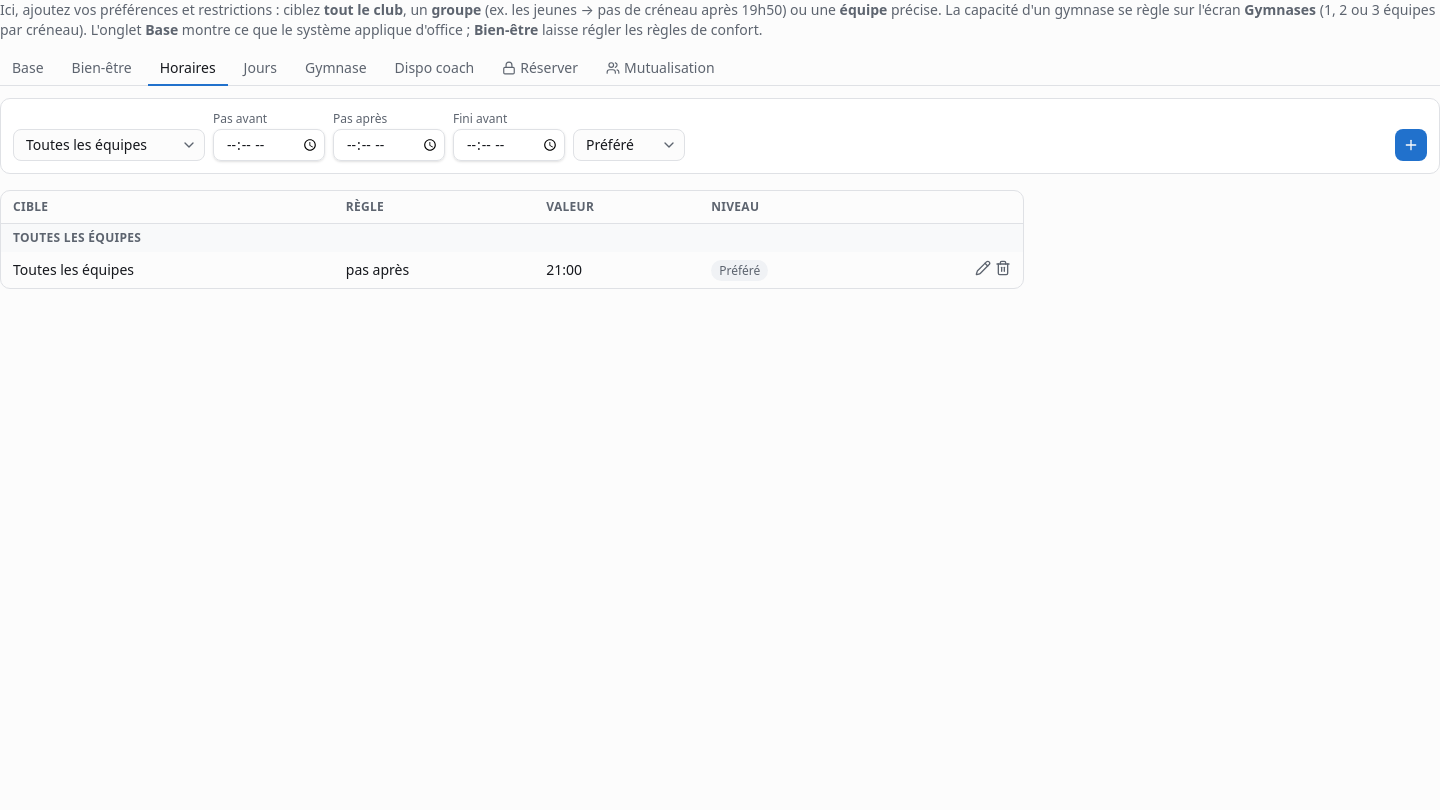
Test: ConstraintsStep — Réserver tab (slot grid + modal) › refuse au clic une équipe dont le coach MAIN est déjà ailleurs, en disant pourquoi
The image size is (1440, 810).
Click the button "Réserver" at (540, 69), box [490,52,590,86]
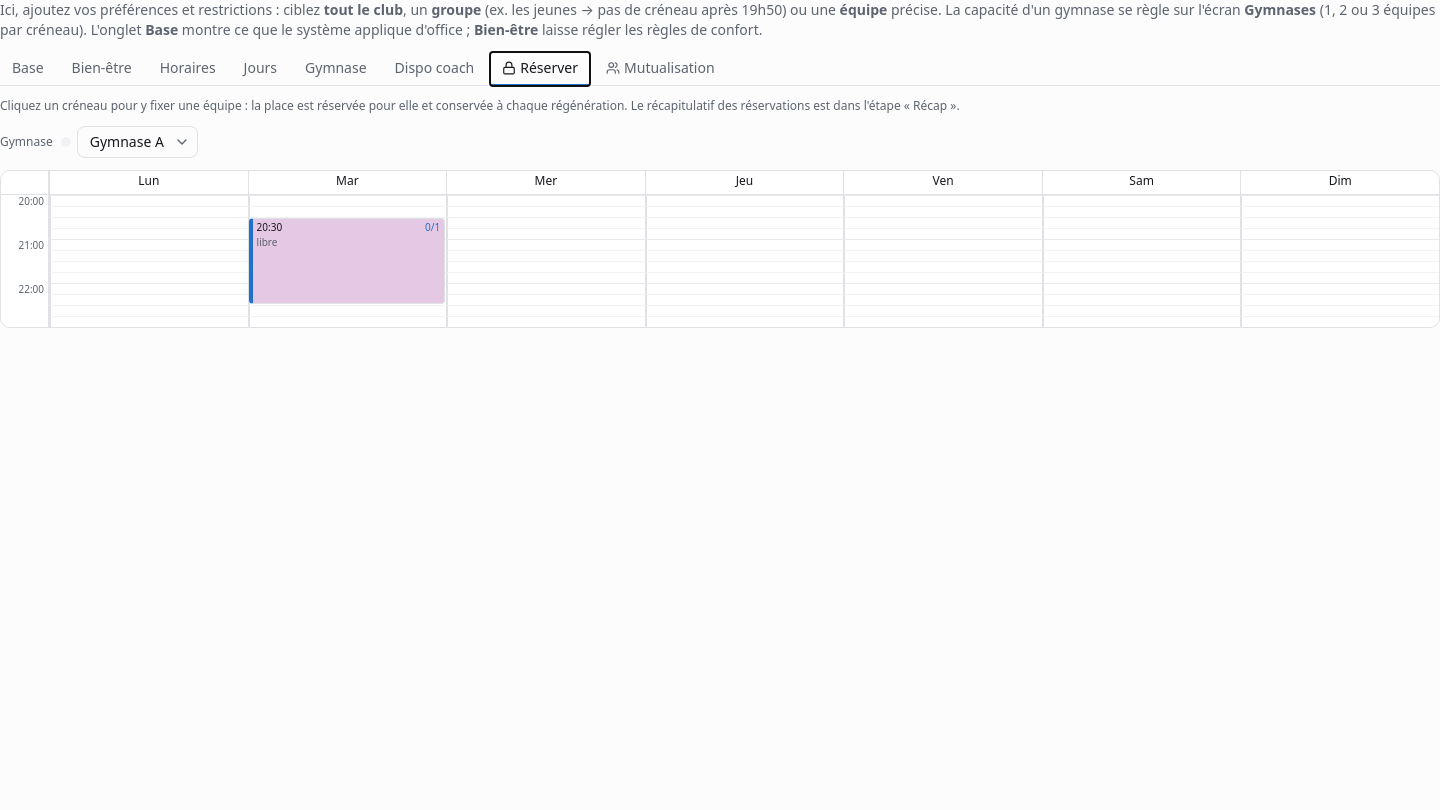
Click the button "20:30 0/1 libre" at (347, 261), box [249,218,445,304]
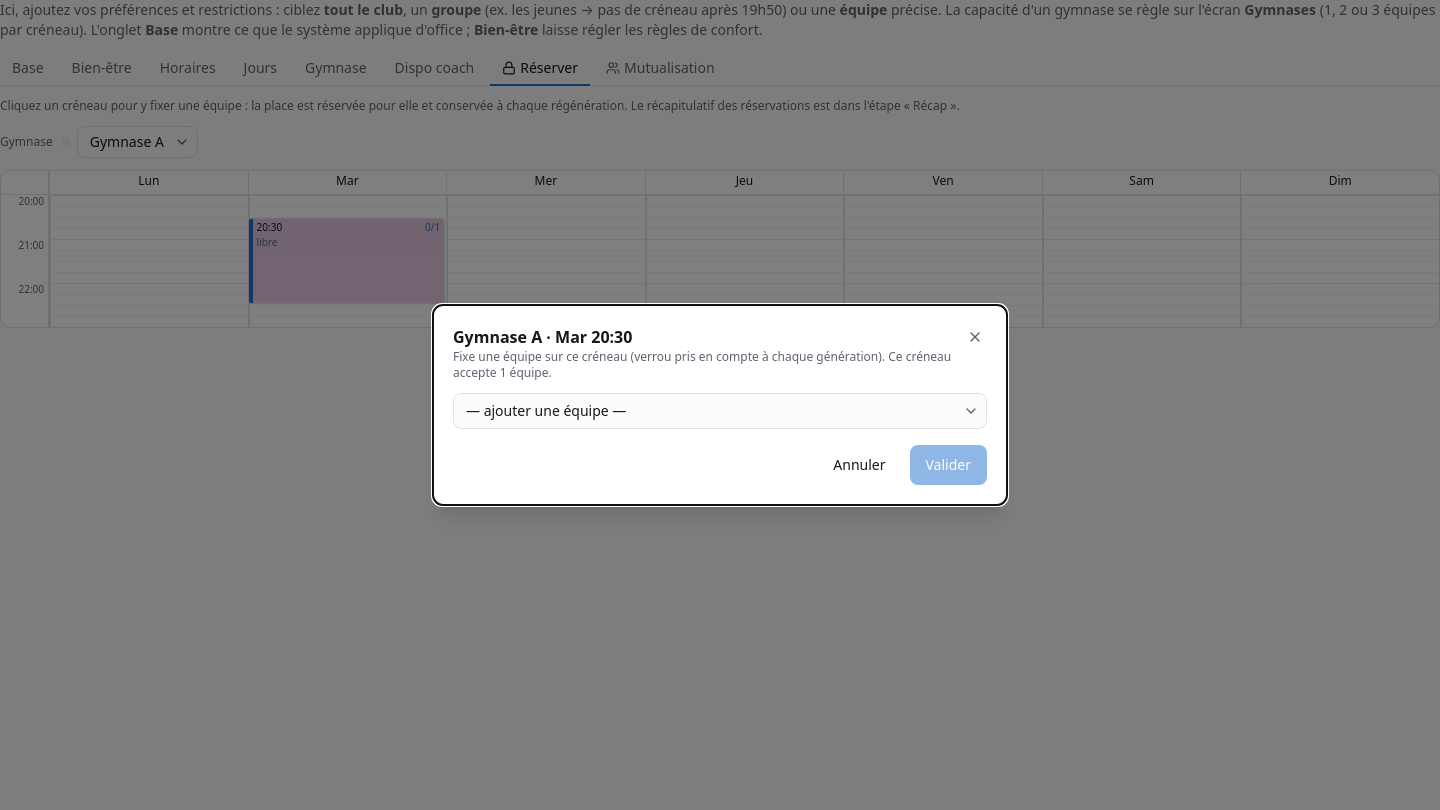
Select "Fanion" in the dropdown named "Ajouter une équipe" at (720, 411), box [453,393,987,429]
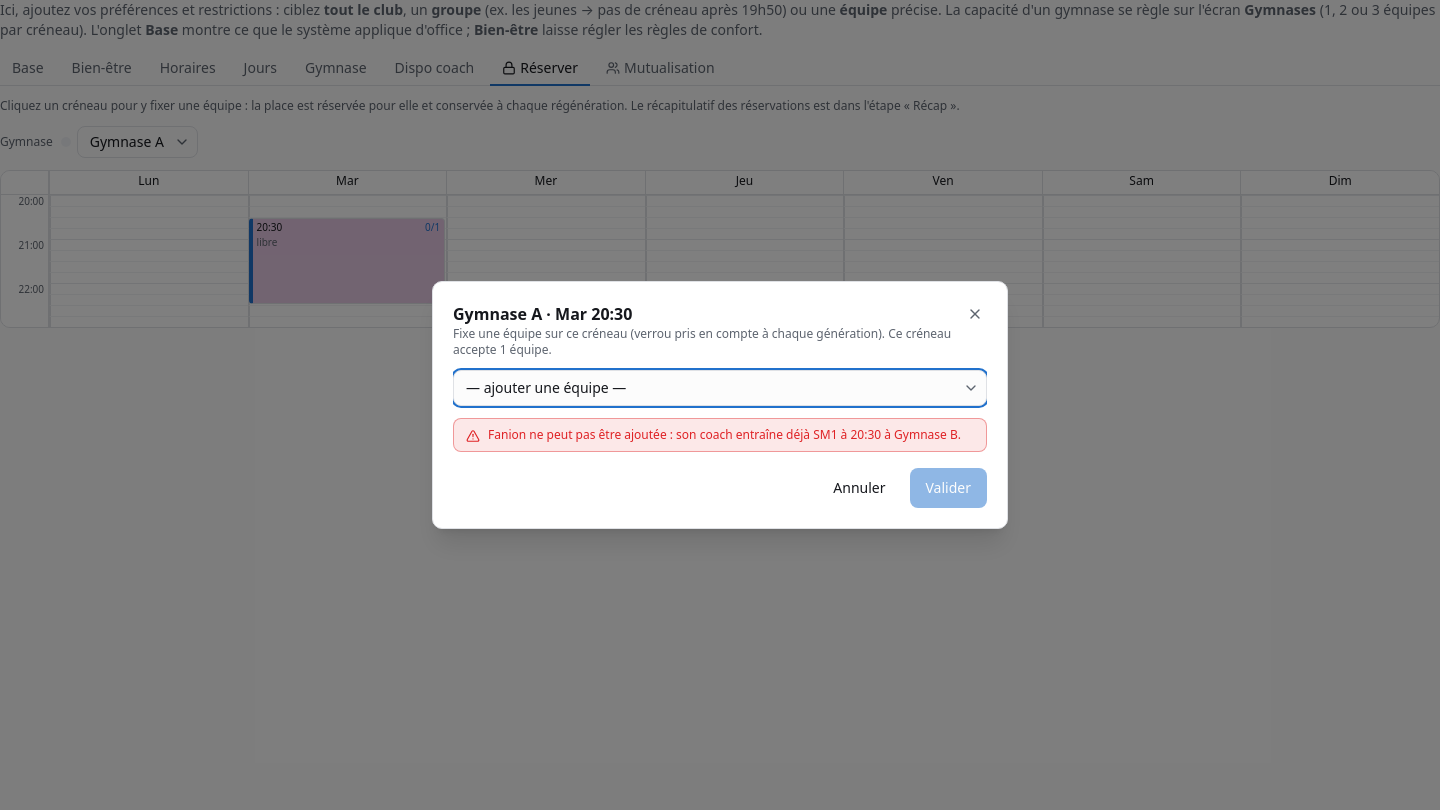
Expected: the button "Valider" is disabled, [910,468,987,508]
Expected: the message shows "SM1", [488,426,961,443]
Expected: the message shows "20:30", [488,426,961,443]
